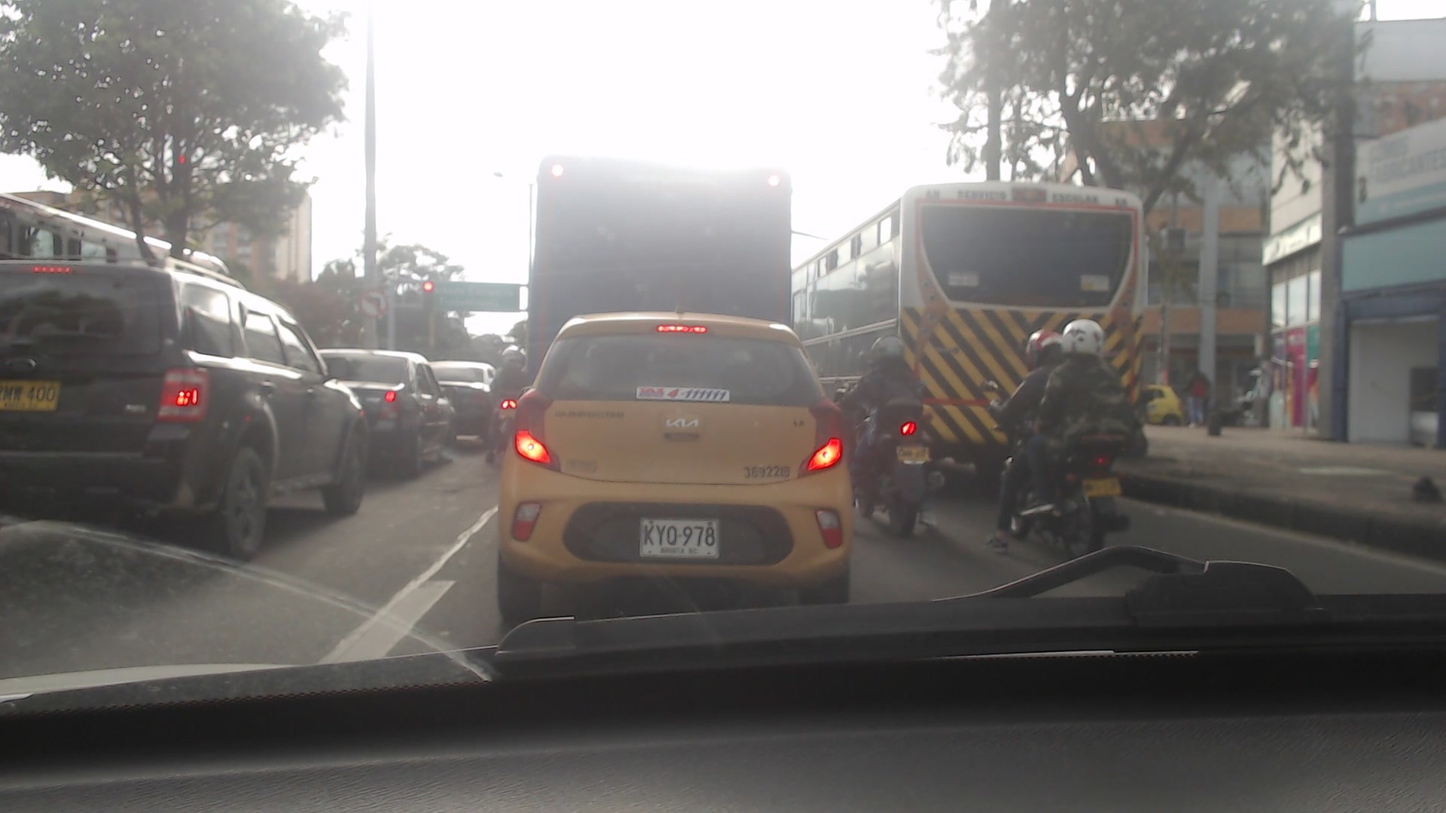bus: (774, 178, 1154, 469)
car: (501, 306, 847, 623), (0, 256, 374, 539), (286, 343, 461, 479), (423, 354, 496, 434)
motorcycle: (989, 424, 1121, 563), (840, 409, 934, 532), (485, 394, 527, 459)
person: (1040, 317, 1157, 458), (841, 331, 940, 455), (1000, 330, 1062, 461), (489, 341, 526, 426)
truck: (513, 143, 795, 329)
